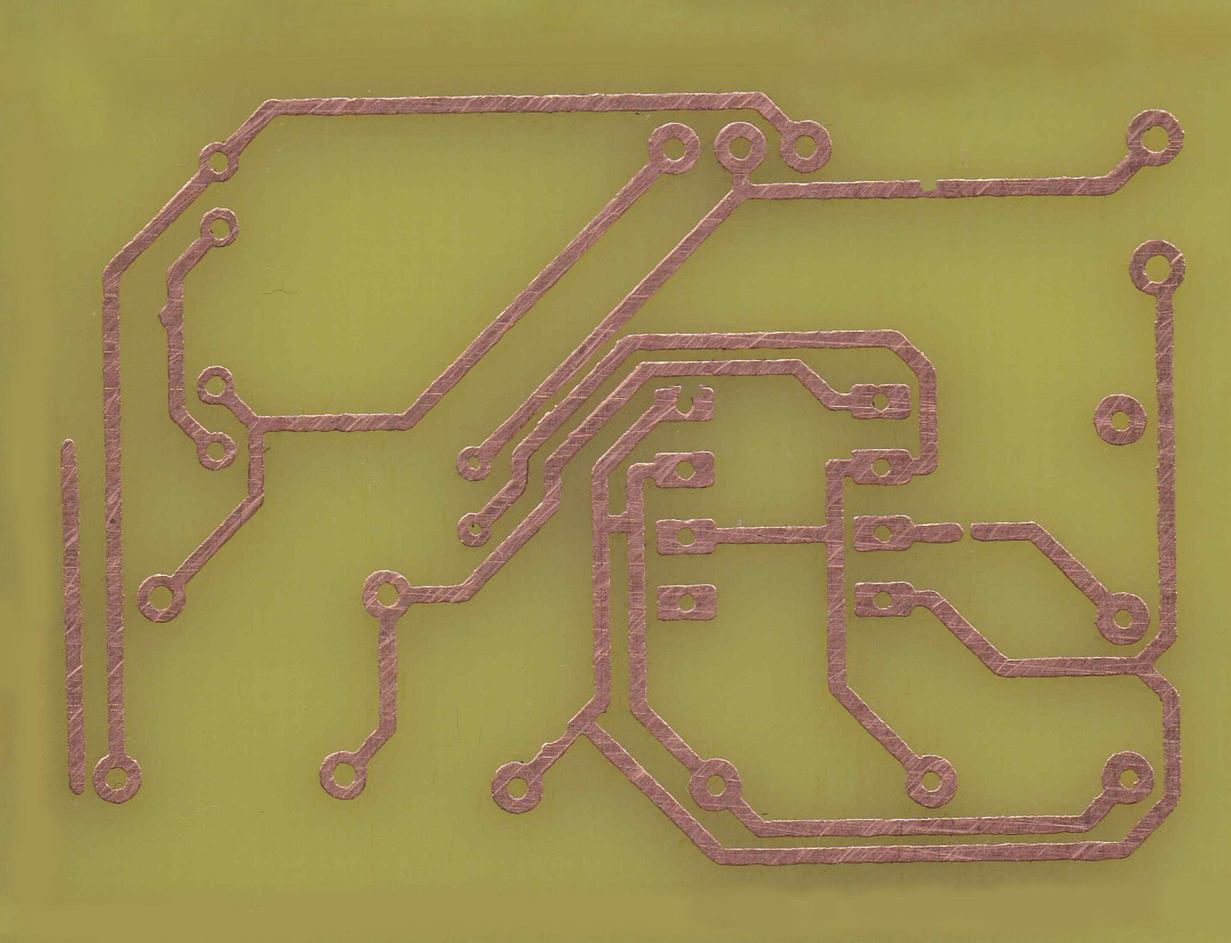missing_hole: (650, 383, 720, 427)
mouse_bite: (544, 722, 574, 752), (915, 175, 942, 204)
open_circuit: (951, 520, 985, 545)
short: (588, 501, 649, 539)
spur: (153, 304, 187, 328)
spurious_copper: (57, 433, 91, 804)
